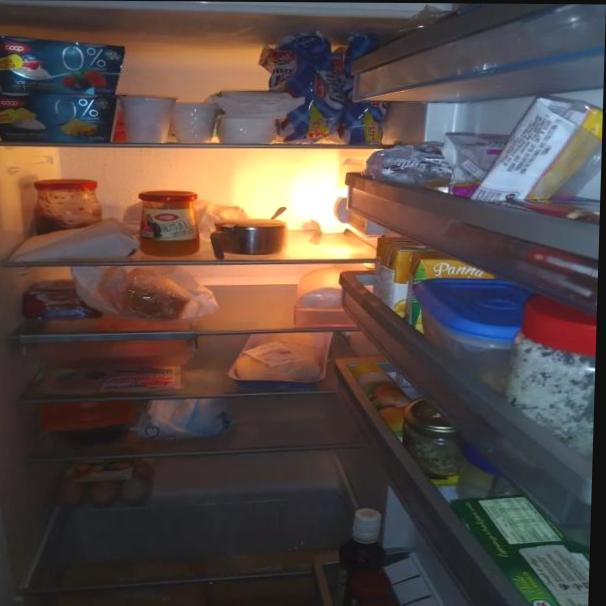cheese: (114, 266, 203, 321), (219, 111, 277, 147)
ham: (44, 368, 181, 393)
yoghurt: (0, 29, 122, 98), (0, 92, 119, 146), (113, 88, 175, 149), (175, 97, 223, 151)
